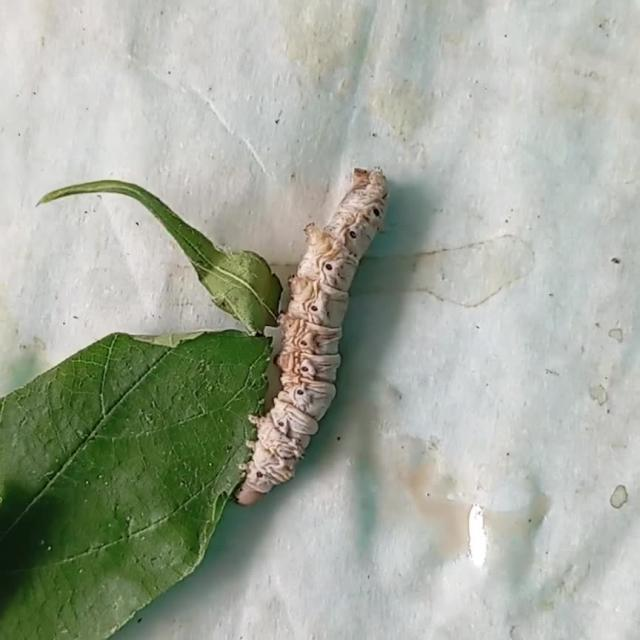Grasserie: (206, 142, 425, 539)
